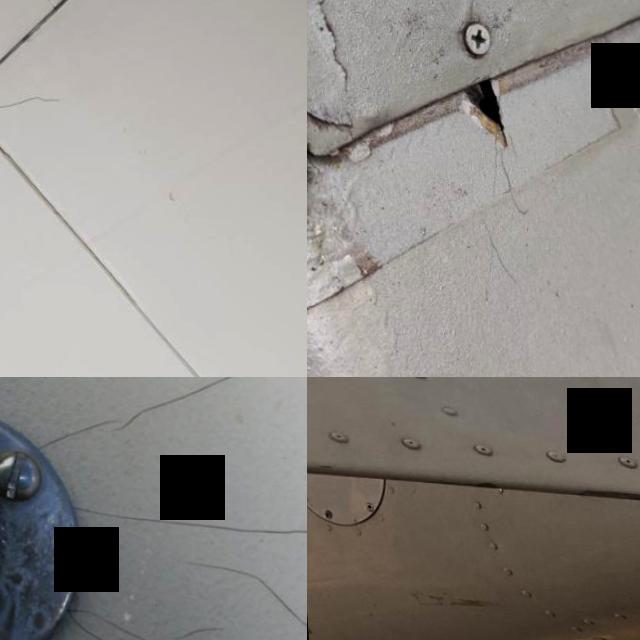Crack: (32, 377, 245, 447), (428, 60, 538, 176), (185, 557, 307, 638), (67, 500, 307, 539), (66, 603, 149, 640), (0, 84, 80, 114), (168, 623, 218, 640)
